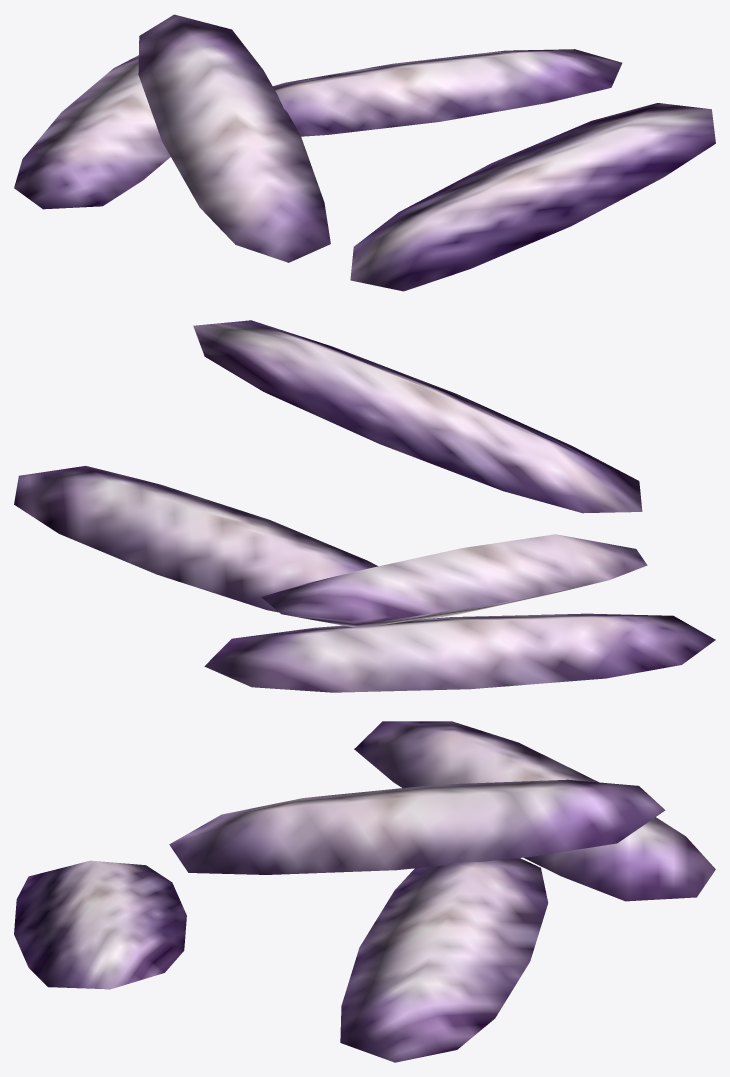
File: KM_SEEDS_02.glb
3 renders of one model, top to bottom at view 1: azimuth 30°, elevation 25°; view 2: azimuth 150°, elevation 25°; view 3: azimuth 270°, elevation 25°, orthographic. The views are drawn at different scales.
Parts seen in each view (by area): view 1: Mesh; view 2: Mesh; view 3: Mesh.
Boxes of the visible parts, box(x1,y1,x2,y2) form: Mesh: box(14, 14, 715, 291); Mesh: box(14, 320, 715, 692); Mesh: box(14, 721, 715, 1062).
Size of the model in its own units: 0.3483 by 0.0488 by 0.3026.
Materials: 1 (1 with a texture image).
